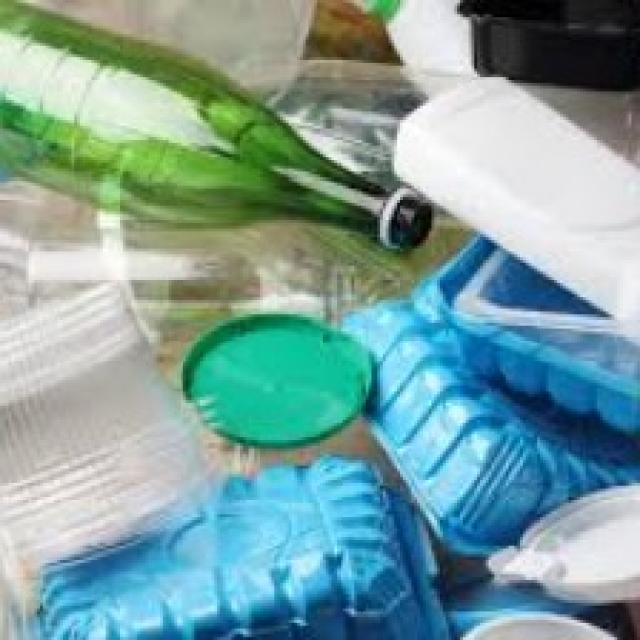plastic: (341, 279, 640, 543), (25, 470, 440, 640), (166, 300, 408, 467), (500, 463, 640, 610)
plastic_bottle: (1, 1, 435, 261)
